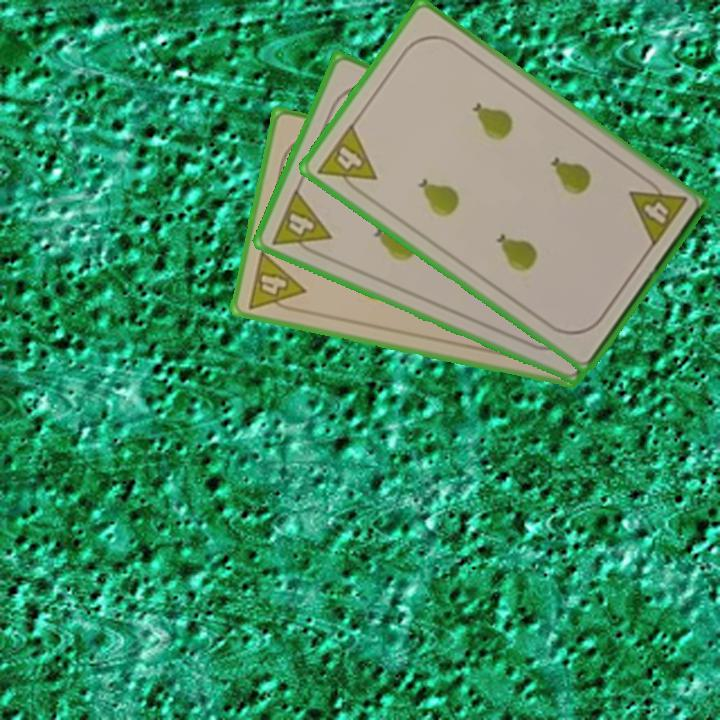4p: (313, 120, 380, 200), (267, 185, 334, 261), (625, 172, 690, 250), (244, 247, 308, 316)
